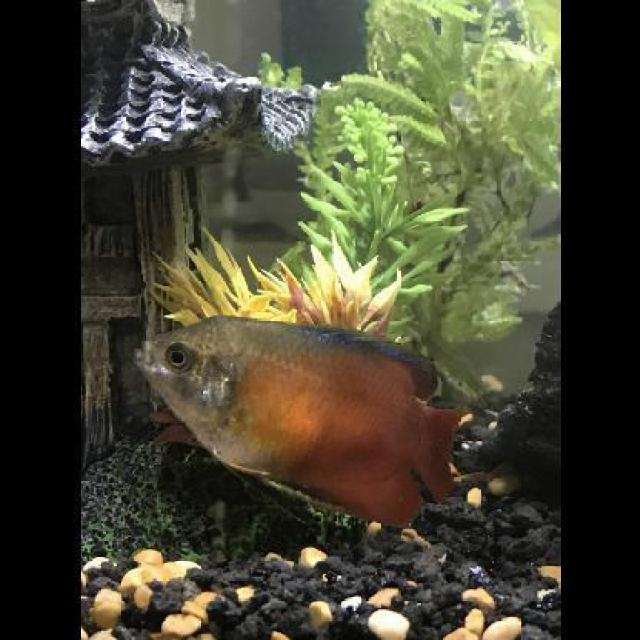Gourami: (129, 312, 474, 534)
